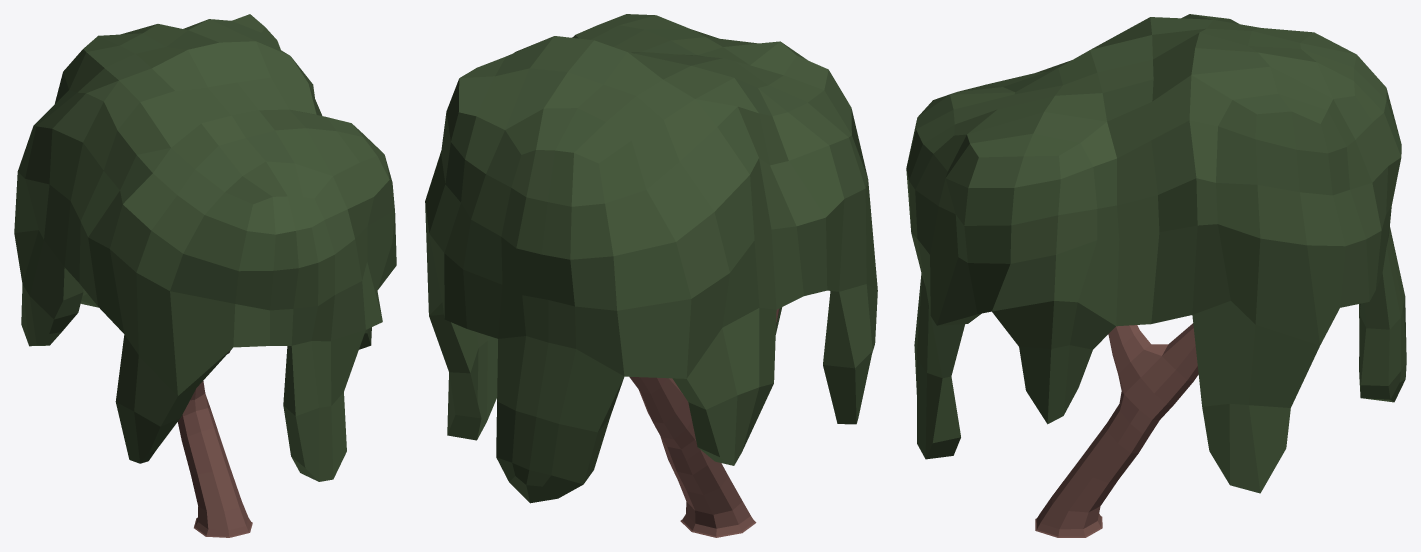
File: Willow_4.glb
The picture shows the model from 3 angles, left to right: view 1: azimuth 30°, elevation 25°; view 2: azimuth 150°, elevation 25°; view 3: azimuth 270°, elevation 25°; orthographic projection. The views are drawn at different scales.
Parts seen in each view (by area): view 1: Willow_4; view 2: Willow_4; view 3: Willow_4.
Boxes of the visible parts, x1,y1,x2,y2 form: Willow_4: (14, 14, 396, 537); Willow_4: (425, 14, 877, 537); Willow_4: (906, 14, 1406, 537).
Size of the model in its own units: 2.19 by 3.39 by 3.04.
